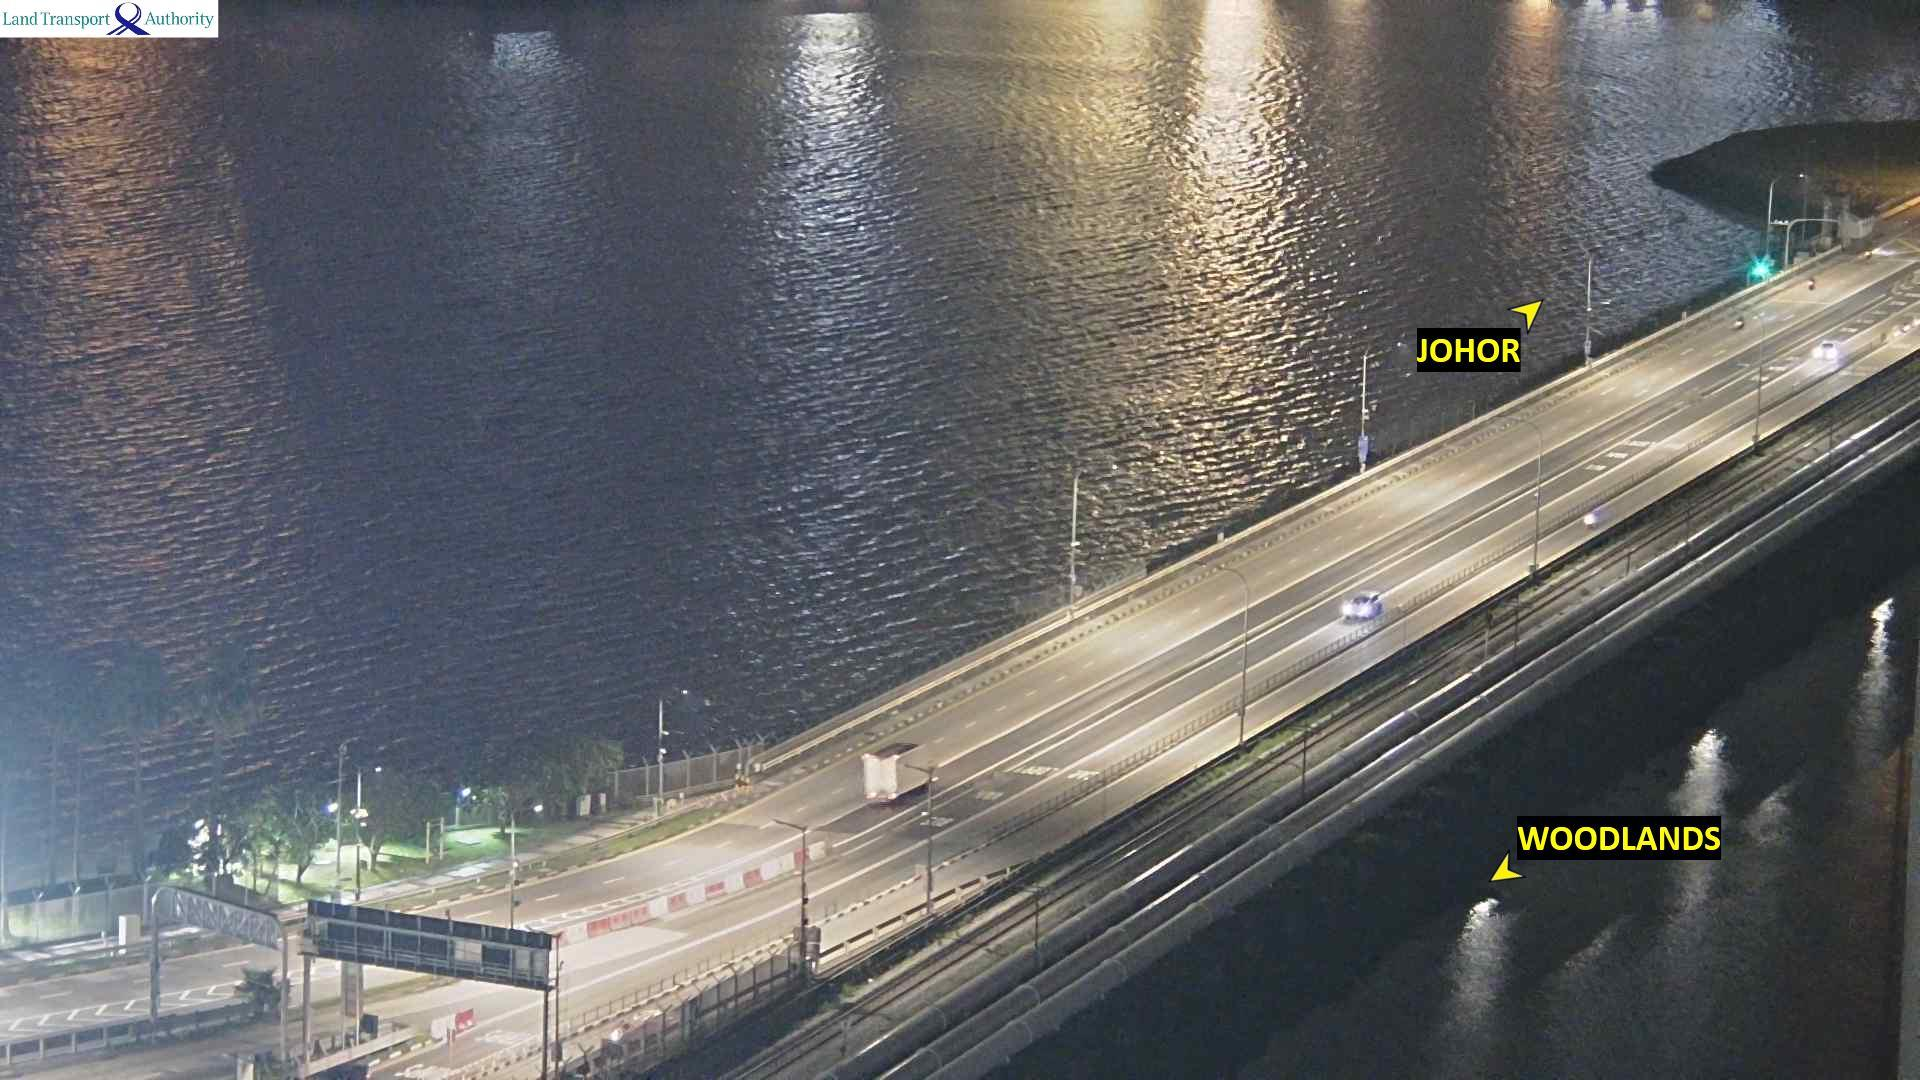vehicle-causeway-johor: (865, 746, 934, 800), (1807, 276, 1815, 295), (1860, 250, 1871, 263), (1732, 317, 1743, 326)
vehicle-causeway-singapore: (1345, 588, 1379, 616), (1812, 339, 1838, 359), (1584, 511, 1596, 528)
